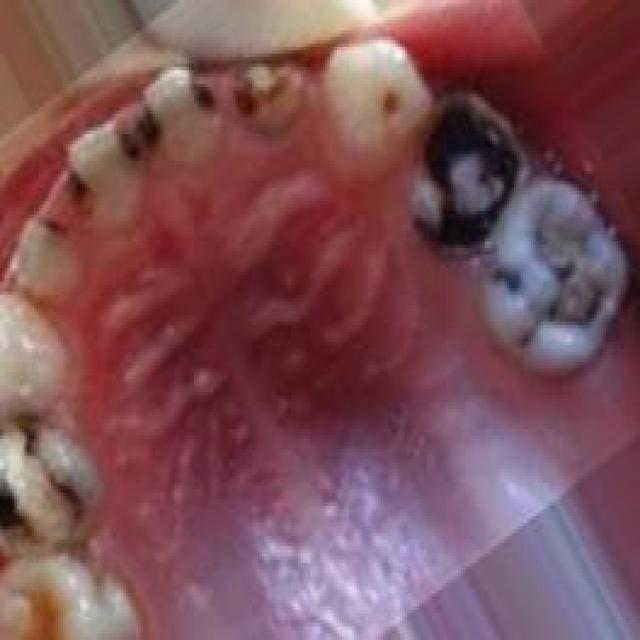caries: (468, 170, 630, 390), (397, 81, 525, 259), (0, 398, 112, 570), (55, 116, 145, 233), (136, 69, 222, 167), (230, 51, 316, 140), (0, 563, 95, 640), (368, 71, 418, 132), (32, 202, 77, 268)
